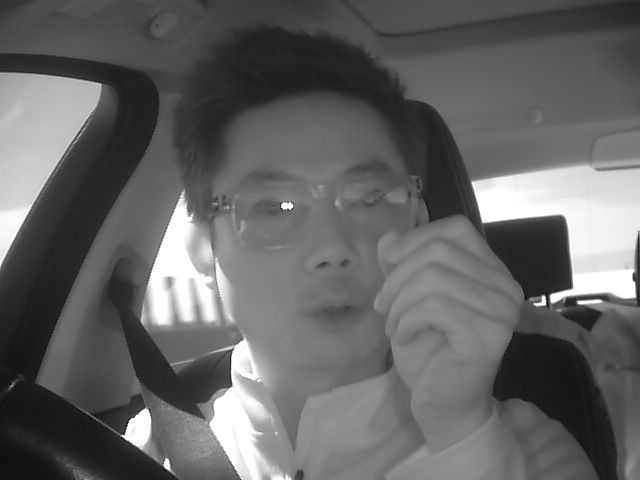hand: (368, 216, 526, 432)
